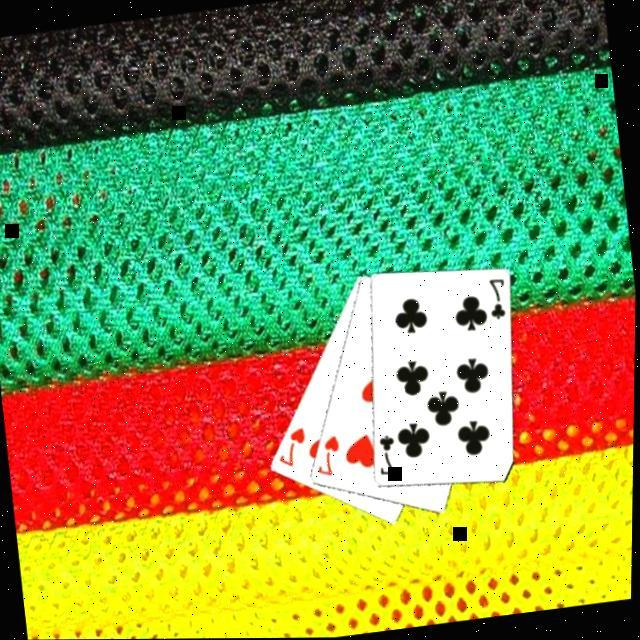7C: (372, 433, 402, 482), (483, 277, 511, 325)
7H: (271, 426, 312, 474), (310, 433, 346, 482)
